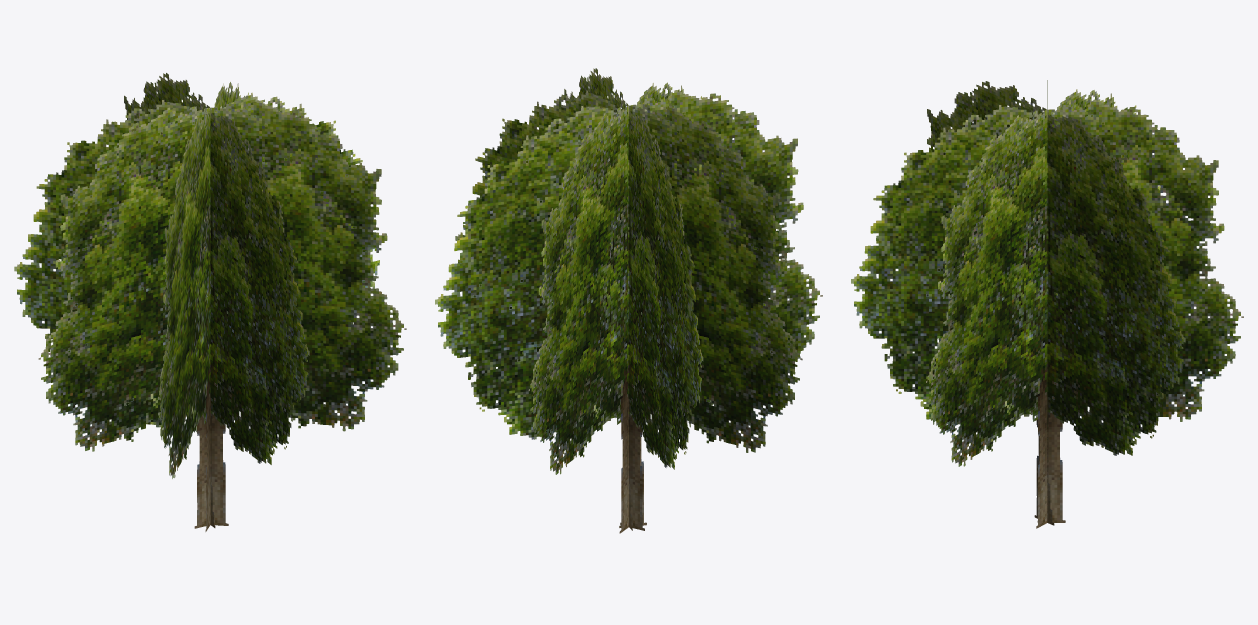
The model's file is Tree 1.fbx.
3 views of the same model, side by side, from view 1: azimuth 30°, elevation 25°; view 2: azimuth 150°, elevation 25°; view 3: azimuth 270°, elevation 25° (orthographic). The views are drawn at different scales.
Visible parts, largest first — view 1: output-onlinepngtools (6).002; view 2: output-onlinepngtools (6).002; view 3: output-onlinepngtools (6).002.
Boxes of the visible parts, left/top/right/bottom form: output-onlinepngtools (6).002: left=14, top=73, right=406, bottom=531; output-onlinepngtools (6).002: left=435, top=68, right=822, bottom=533; output-onlinepngtools (6).002: left=851, top=80, right=1243, bottom=528.
Bounding box in the file's own units: 747 × 905 × 747.
Materials: 1 (1 with a texture image).
